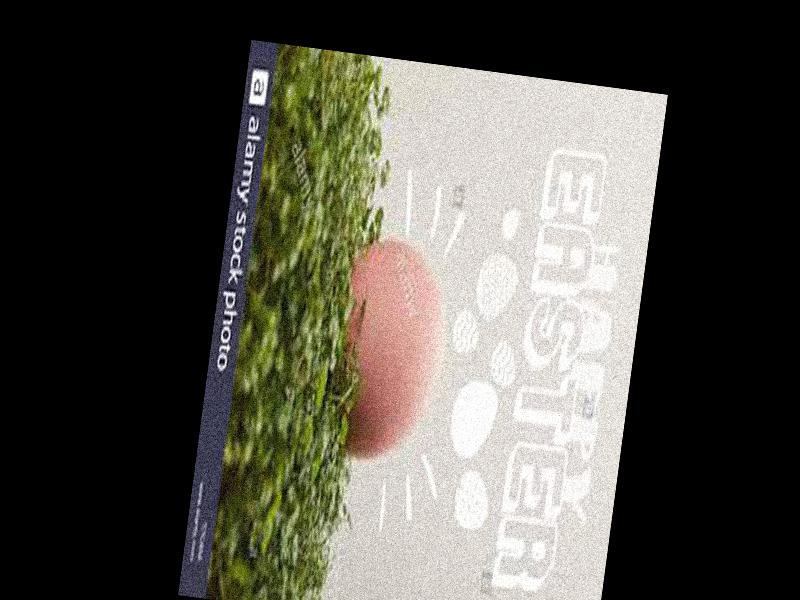Eggs: (326, 239, 454, 471)
